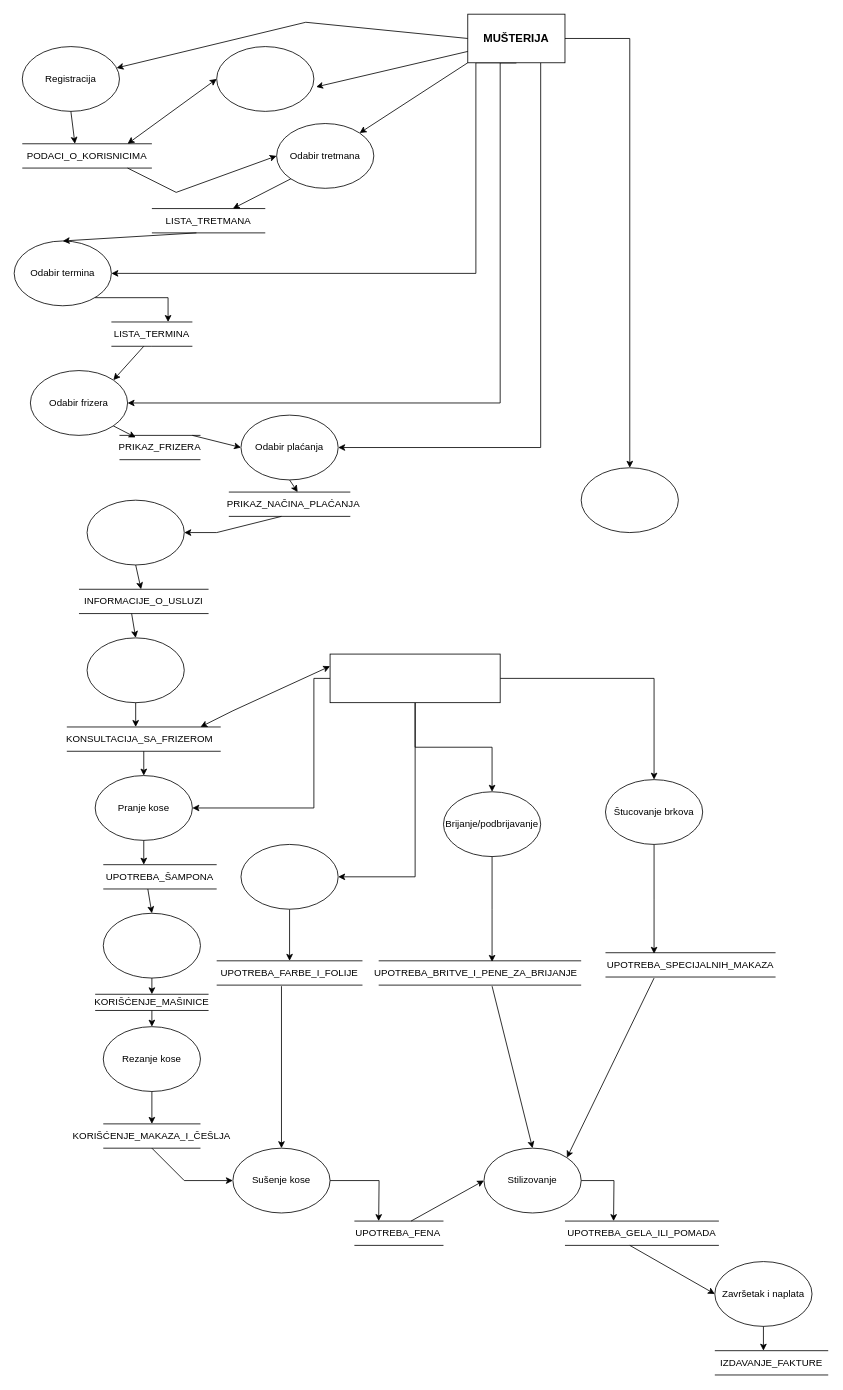
The diagram is 843 pixels wide and 1390 high, and some of its shapes have lost their labels. The shapes that lost their labels are listed below. From the top down, each one's centre as x and y in pixels, then its label:
At pixel 265 78: "Logovanje".
At pixel 629 500: "Pisanje recenzije o frizeru/salonu".
At pixel 135 532: "Zakazivanje usluge".
At pixel 135 670: "Dolazak musterije na uslugu".
At pixel 414 678: "FRIZER".
At pixel 289 876: "Farbanje kose".
At pixel 151 945: "Šišanje kose".
